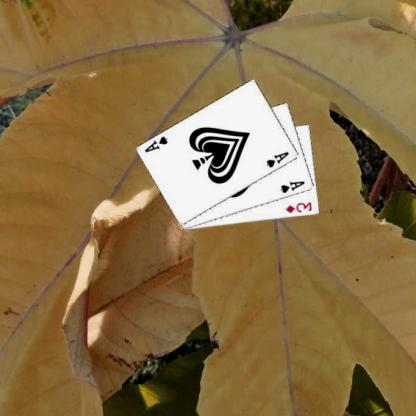3D: (285, 200, 315, 214)
AS: (144, 134, 171, 154), (266, 149, 292, 169), (280, 178, 308, 194)
